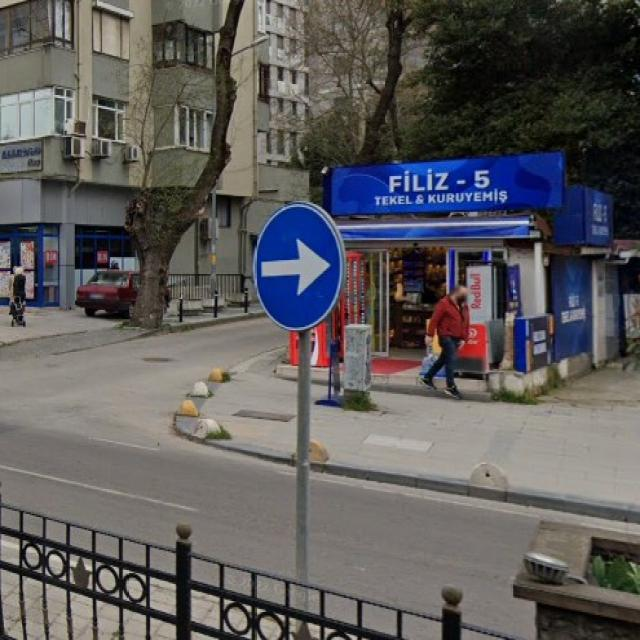Turn Right: (249, 207, 346, 333)
